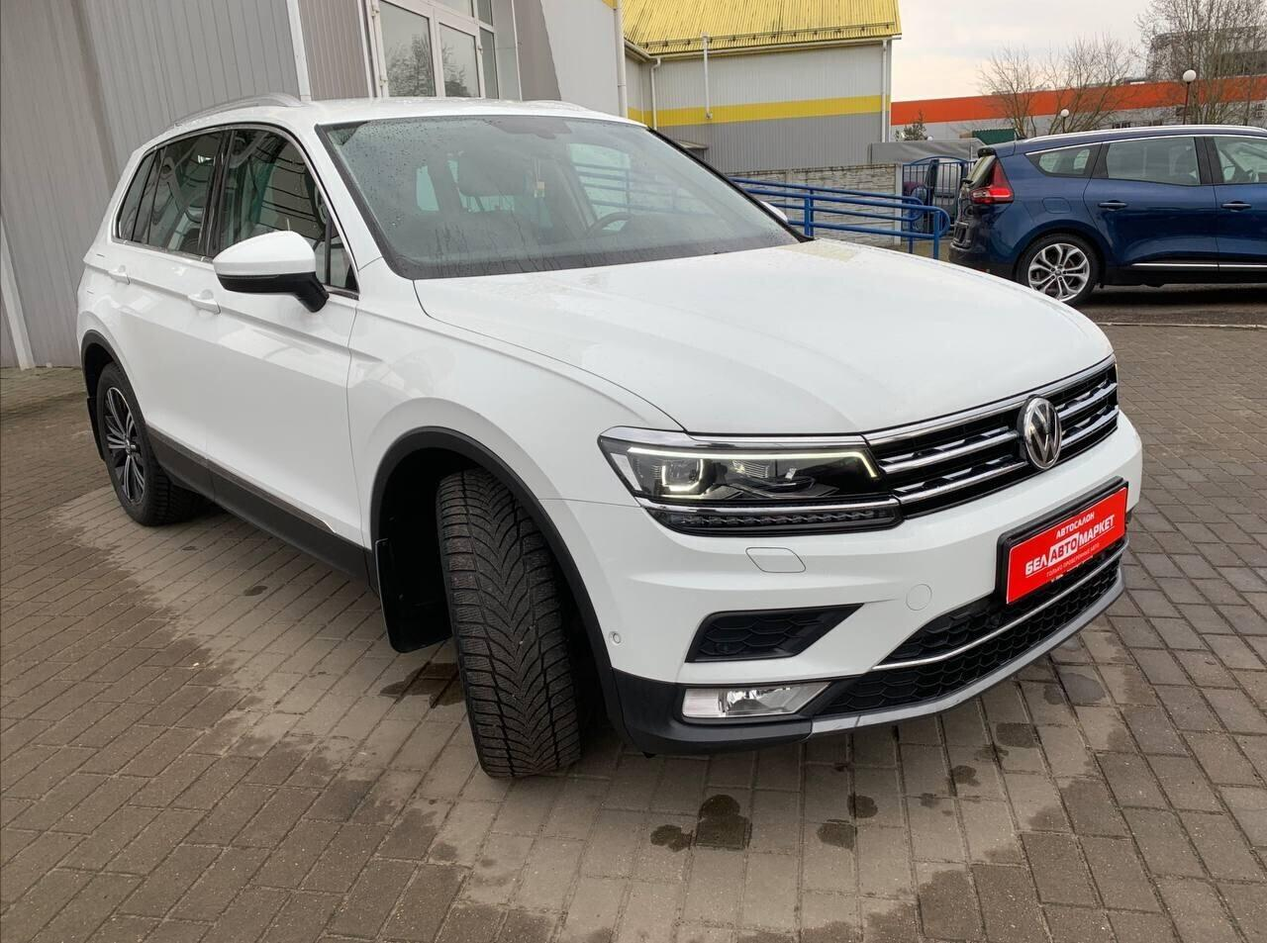Tiguan_2016-2021: (72, 96, 1149, 782)
